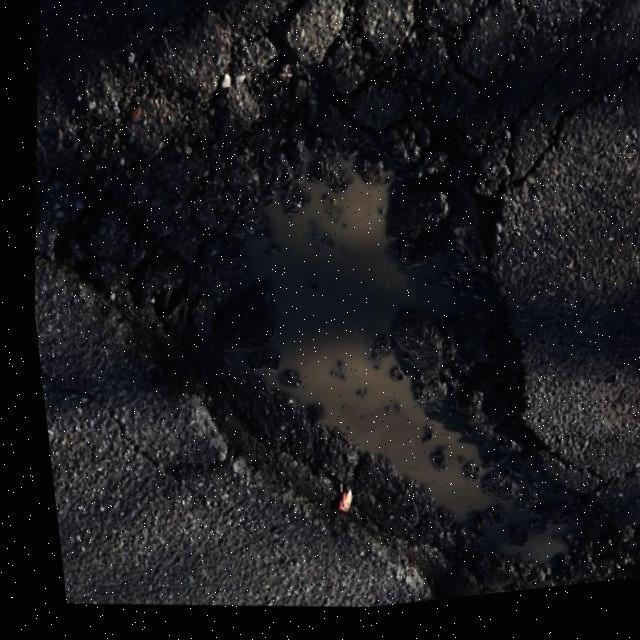pothole: (80, 31, 640, 634)
